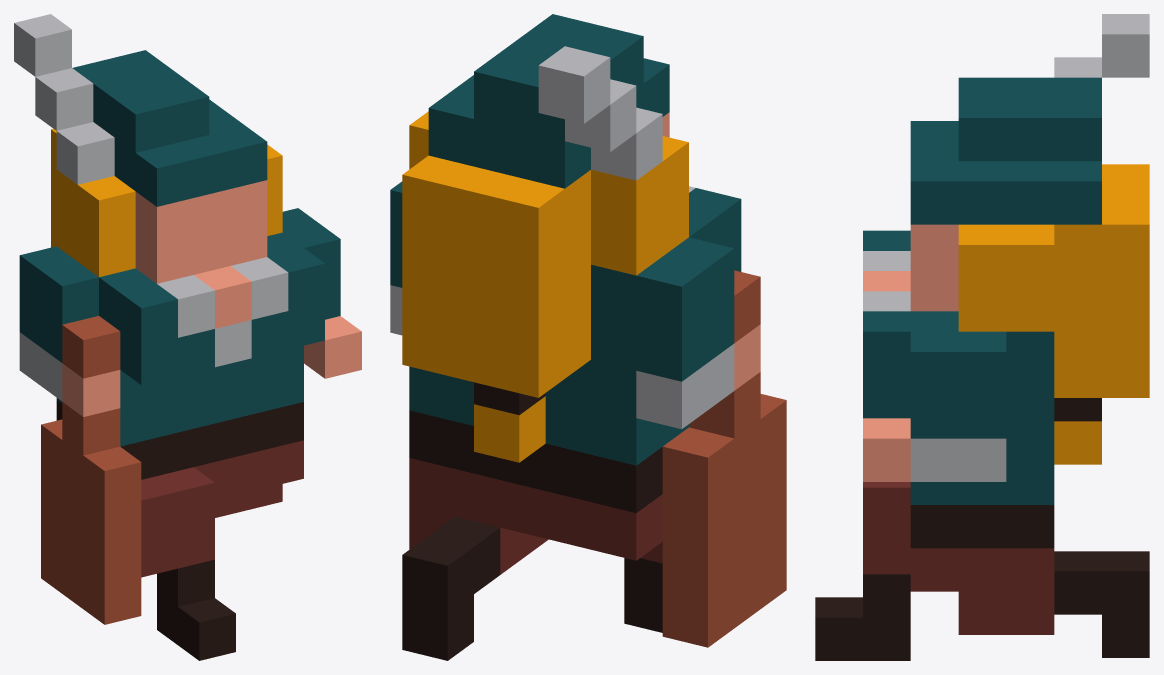
File: bard_walk_0.obj
3 renders of one model, left to right at view 1: azimuth 30°, elevation 25°; view 2: azimuth 150°, elevation 25°; view 3: azimuth 270°, elevation 25°, orthographic. The views are drawn at different scales.
Size of the model in its own units: 0.7 by 1.4 by 0.7.
1 material, 1 textured.
